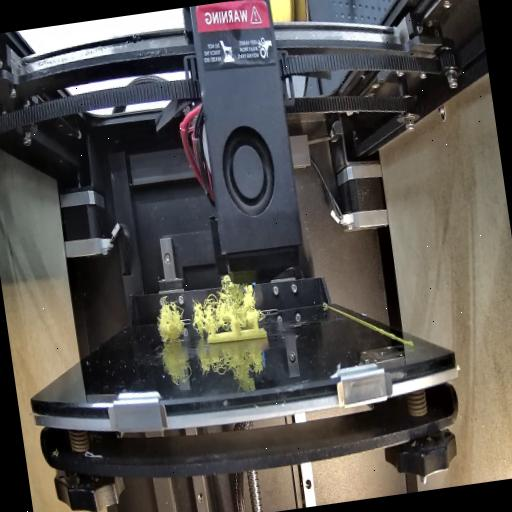spaghetti: (144, 268, 262, 342)
